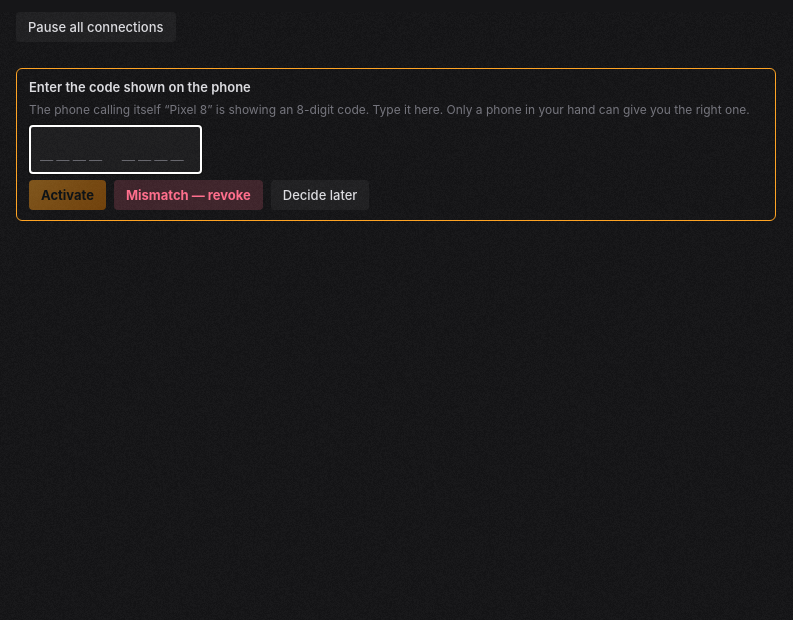
Test case: SettingsMobileTab › an activated phone is listed first and marked as just paired
The width and height of the screenshot is (793, 620).
Type "1234 5678" into the field with test id "pairing-sas-input" at (115, 149), box [29,125,202,174]
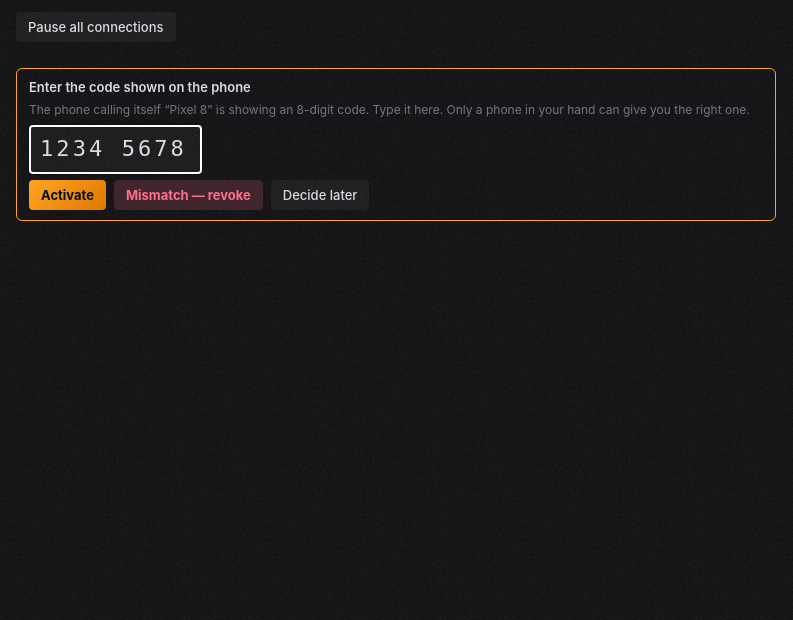
Click the button "Activate" at (67, 195), box [29,180,106,210]
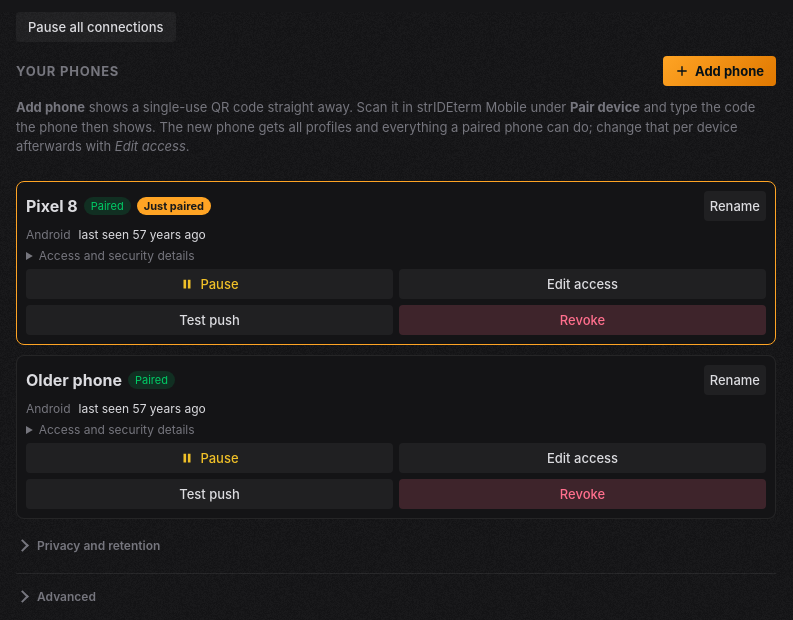
Expected: the element with class "mobile-device-card" shows "Just paired", [144,198,204,212]
